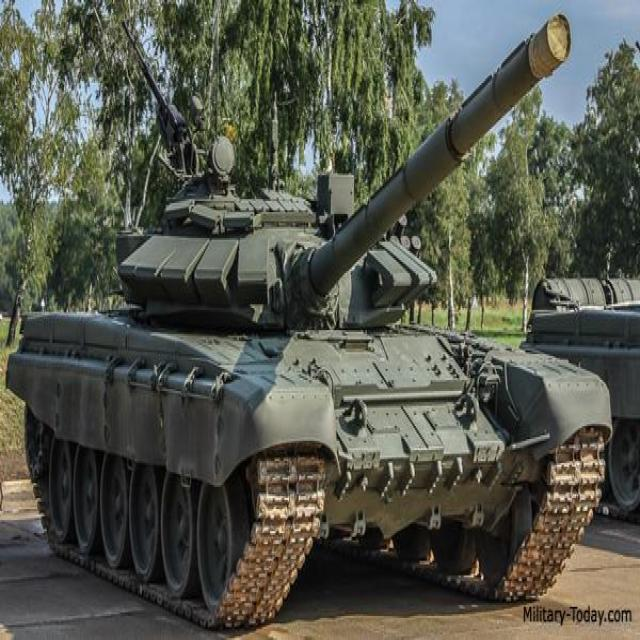Tanks: (14, 115, 603, 608)
